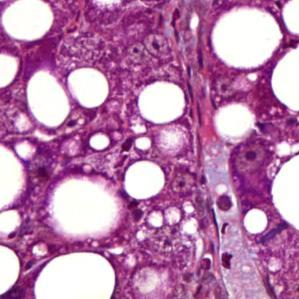steatosis: (22, 68, 72, 129), (136, 83, 189, 124), (121, 158, 167, 200), (67, 66, 111, 109)
